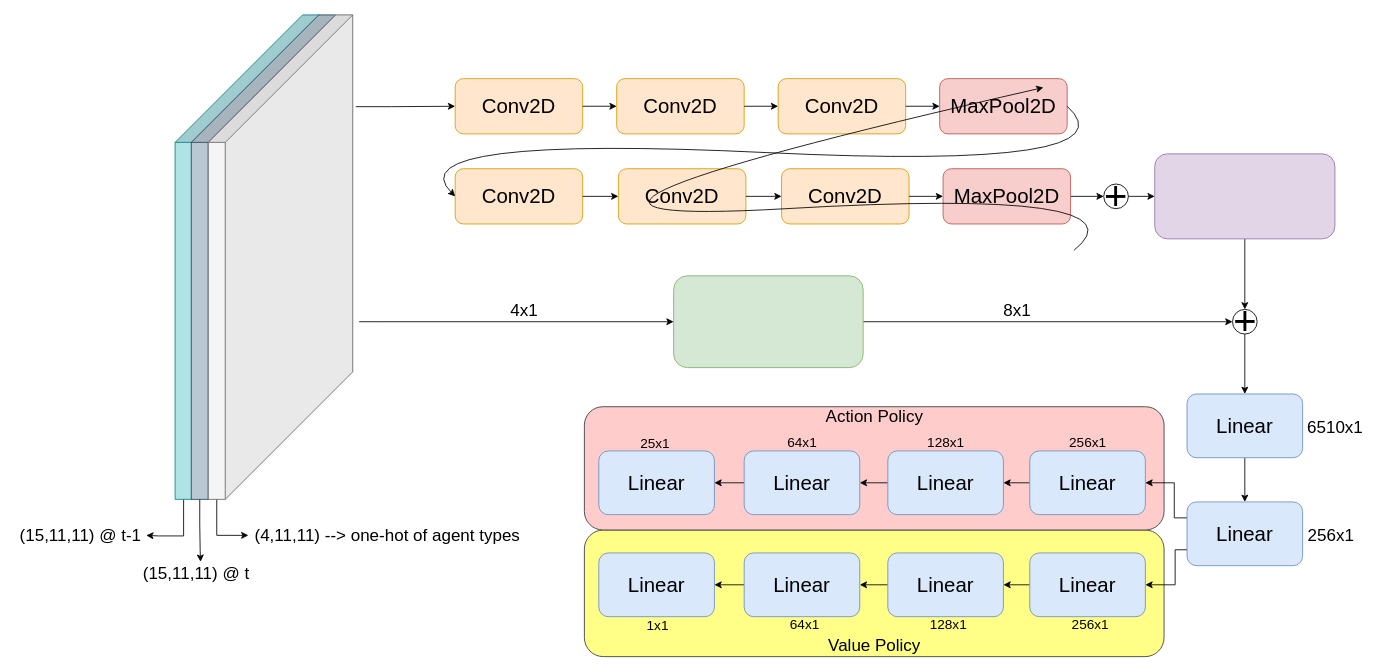
Image size: 1381x672. Some labels were removed from this diagram. The box of each missing label's shape, as (x1, y1, x2, y2) in pixels:
Embedding: (673, 275, 863, 368)
Input Tensor: (207, 14, 353, 499)
LSTM: (1154, 153, 1335, 239)
